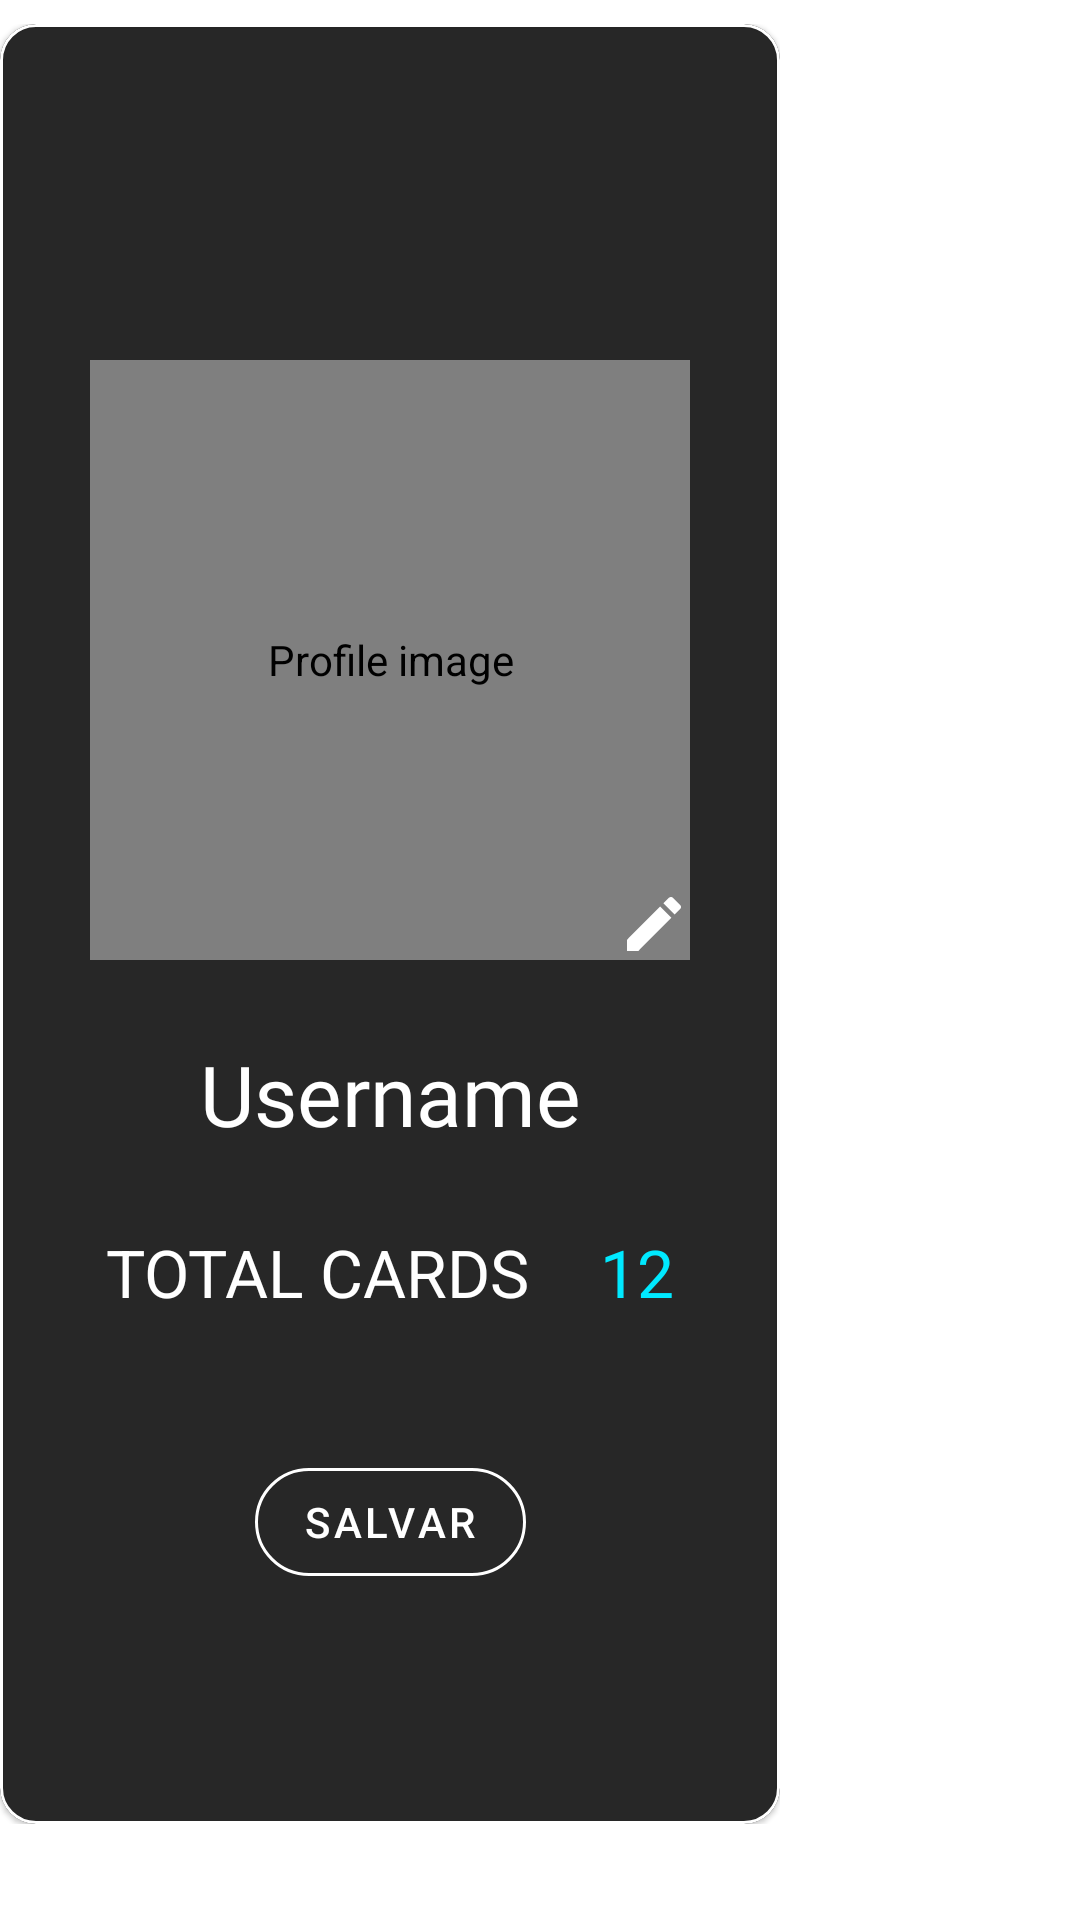

Locate icon controls on the screen. Image size 1080x1920, boxes as (x1, y1, x2, y2).
Edit Icon: (627, 897, 681, 951)
